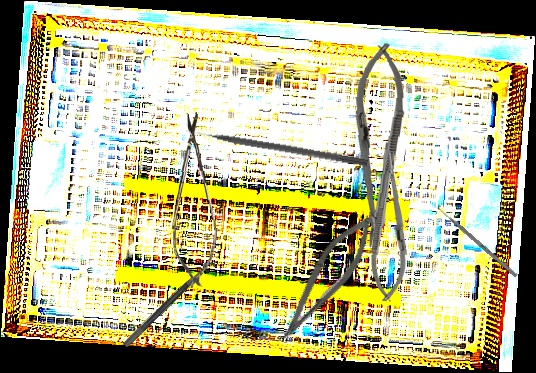Fixation Ring: (122, 258, 222, 355)
Micro Scissor: (273, 205, 383, 352), (168, 111, 219, 289)
Needle Holder: (346, 41, 409, 250), (368, 150, 412, 303)
Pusher: (185, 125, 369, 167), (432, 202, 518, 278)
